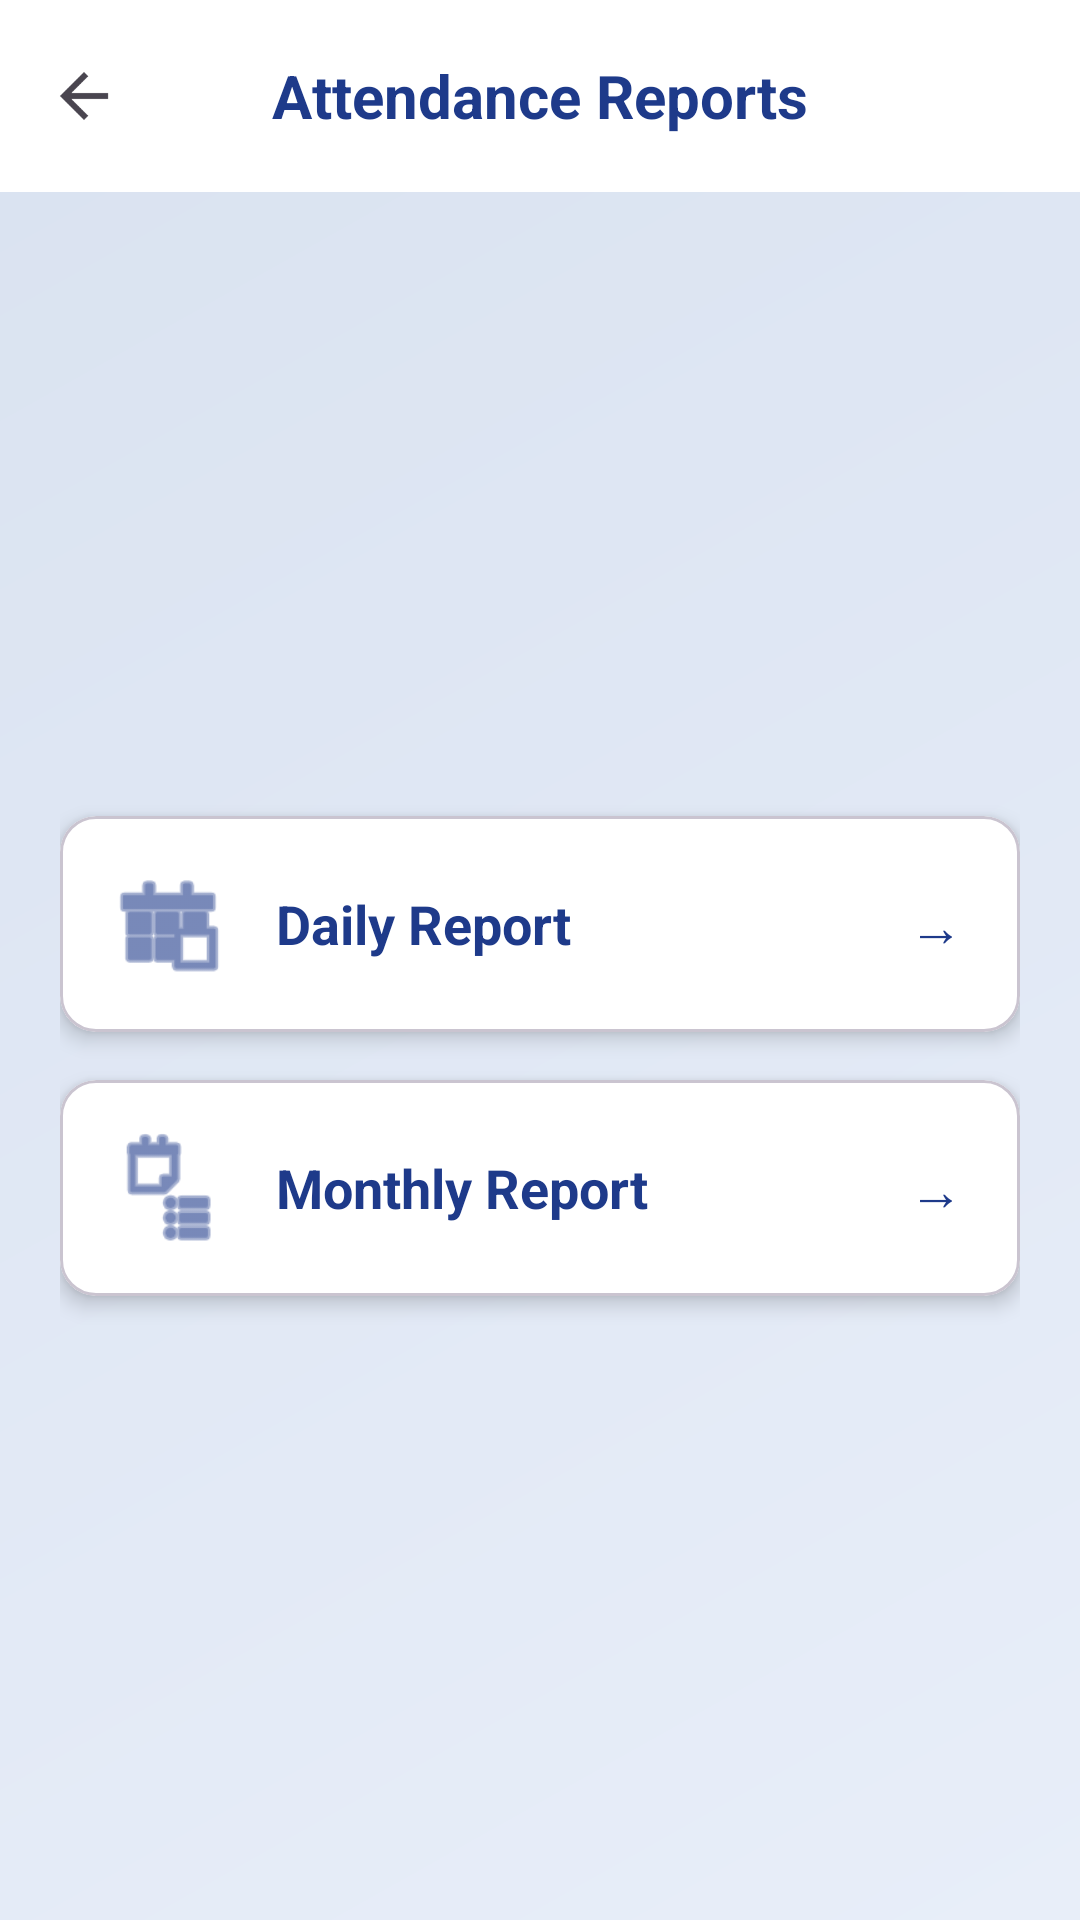

Icon bounding boxes for this 1080w x 1920h phone screenshot, format (x1, y1, x2, y2):
agenda: (126, 1134, 211, 1241)
today: (120, 880, 218, 972)
